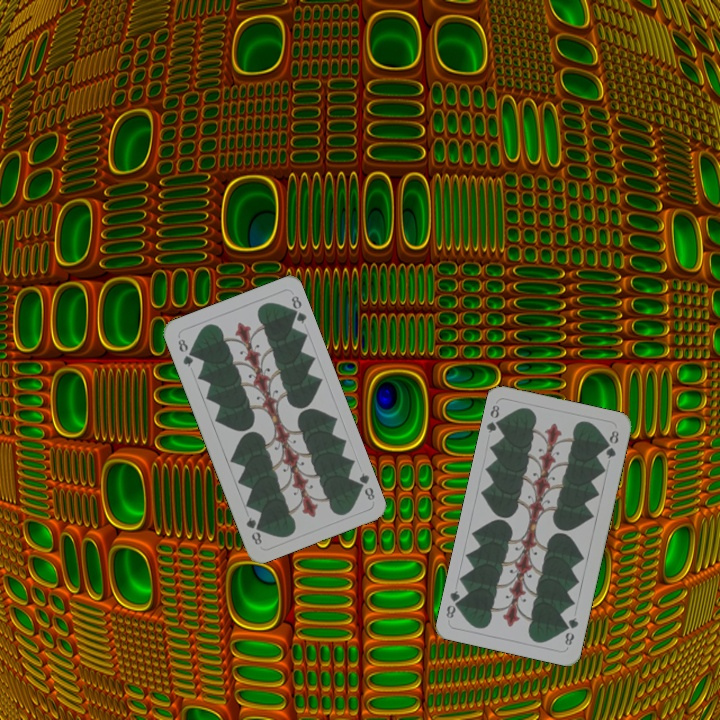G8: (352, 469, 377, 503), (483, 401, 505, 435), (174, 335, 196, 369), (561, 613, 581, 648)
